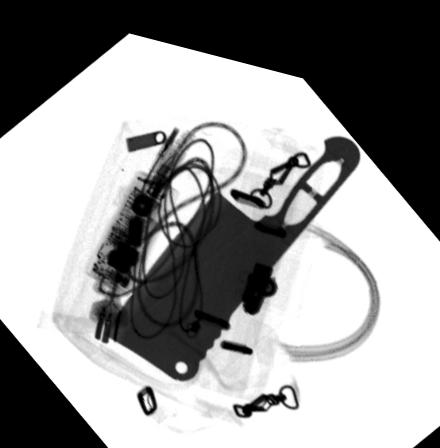Knife: (103, 116, 359, 372)
